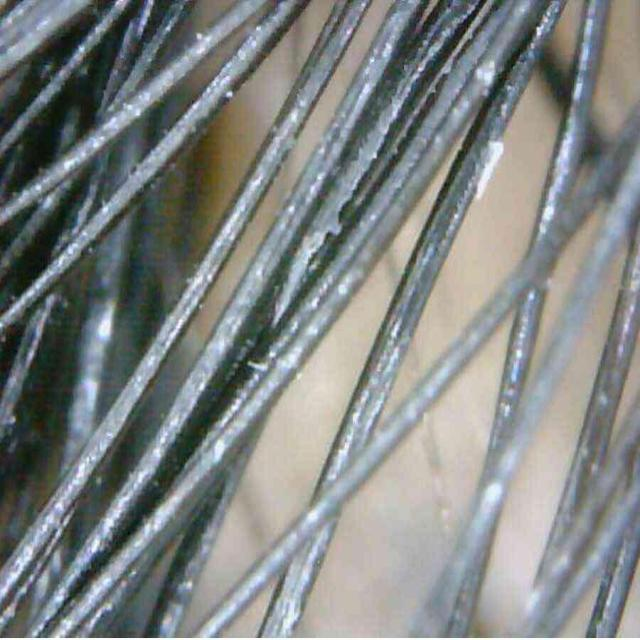d: (475, 140, 504, 200)
